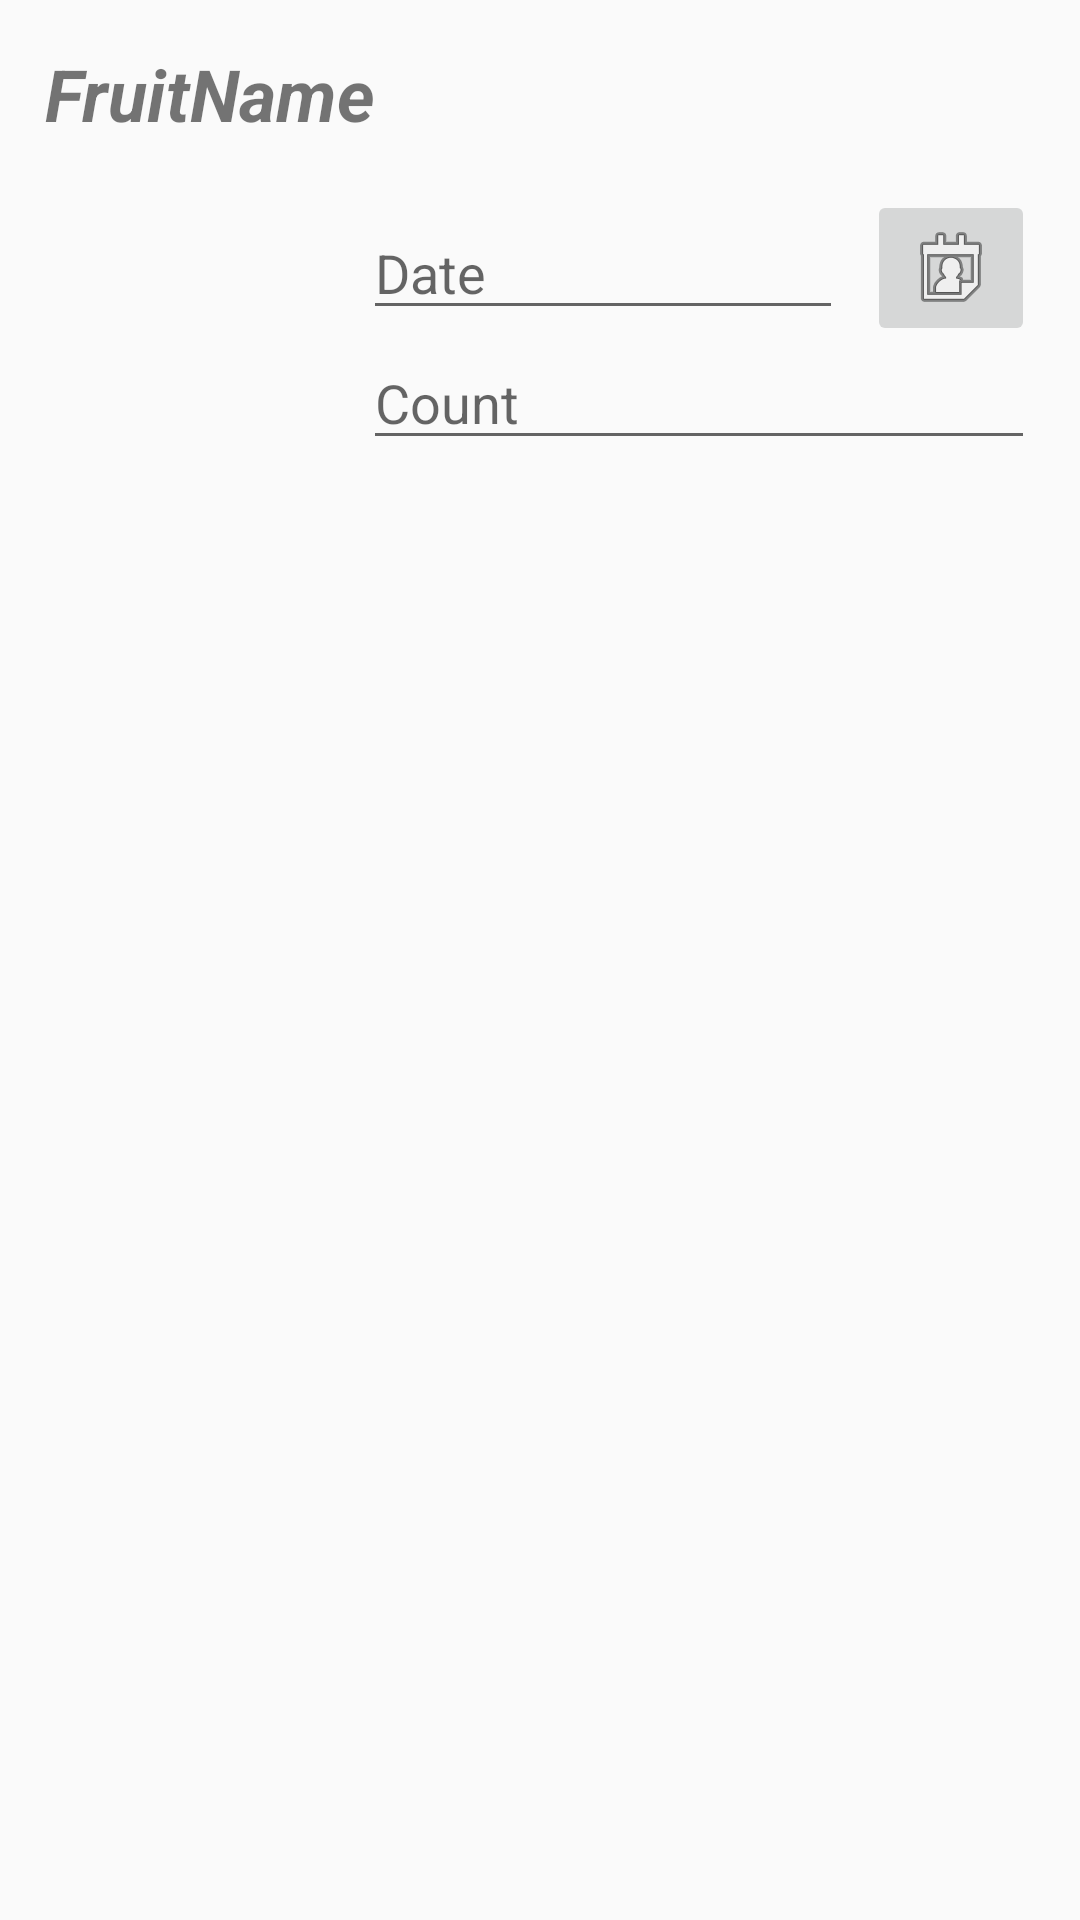

Screen size 1080*1920. Icon name, then its center in pixels as [x,y]:
calendar: [951,268]
